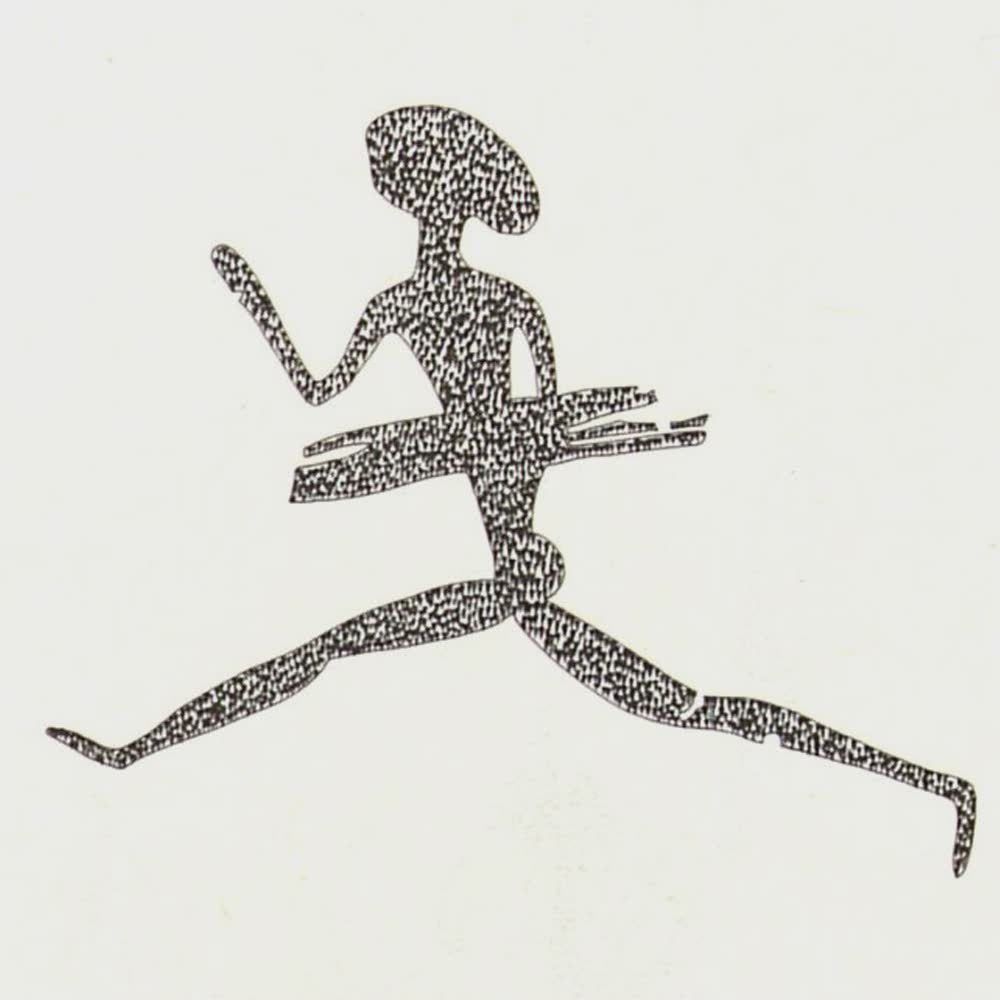man: (37, 103, 984, 885)
